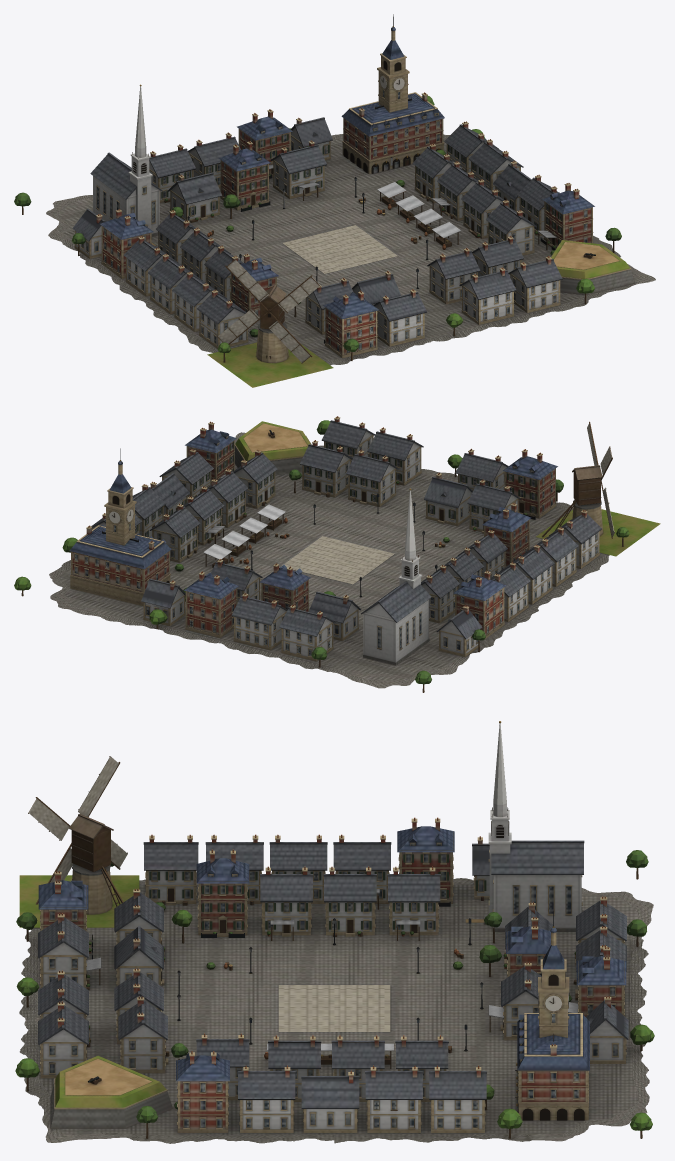
File: gunpowder-town-big-a-colonies.glb
The picture shows the model from 3 angles, top to bottom: view 1: azimuth 30°, elevation 25°; view 2: azimuth 150°, elevation 25°; view 3: azimuth 270°, elevation 25°; orthographic projection. The views are drawn at different scales.
Parts seen in each view (by area): view 1: LOD0; view 2: LOD0; view 3: LOD0.
Boxes of the visible parts, <box> form: LOD0: <box>14,14,655,387</box>; LOD0: <box>14,416,660,692</box>; LOD0: <box>15,721,654,1143</box>.
Size of what is drawn, in the model's own units: 8.05 by 2.8 by 8.12.
3 materials, 3 textured.
